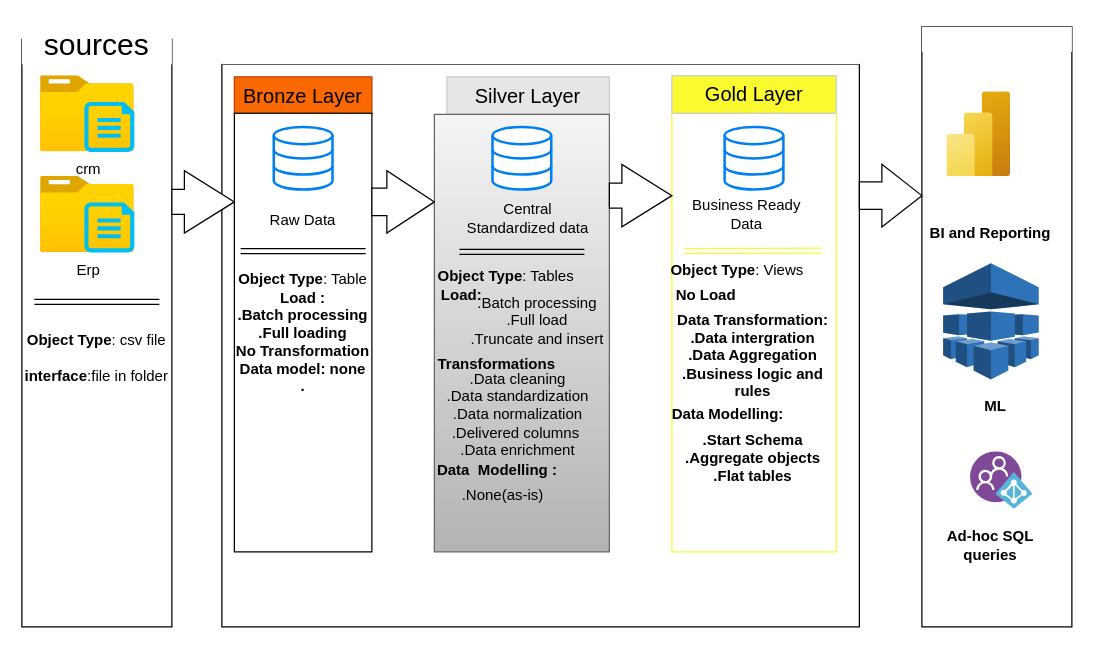
Image size: 1094x649. Some labels were removed from this diagram. The centre of each missing label's shape, as x and y in pixels:
consume: (996,38)
Data Warehouse: (540,45)
